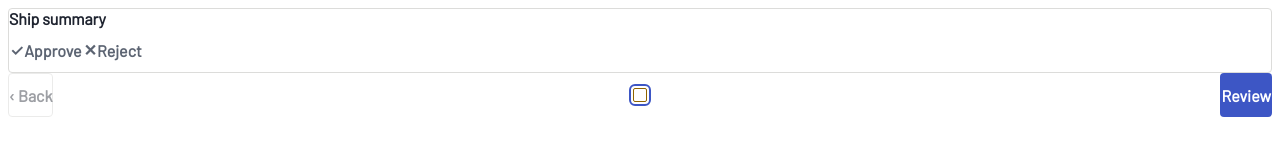
FocusDeck summary presence key › keeps the review distinct from a block literally named "summary"
The image size is (1280, 160).
Click the button "Review": (1246, 95) [1220, 73, 1272, 117]
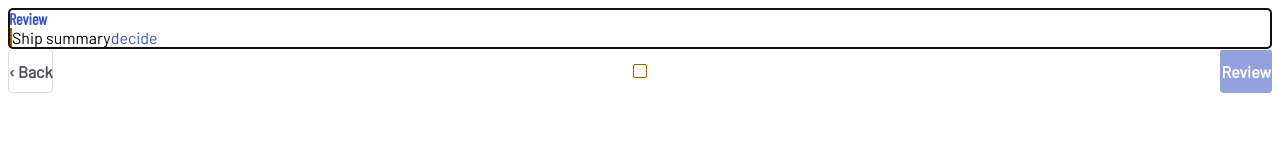
Expected: the element with class "focus-summary" is shown, [8, 8, 1272, 49]
